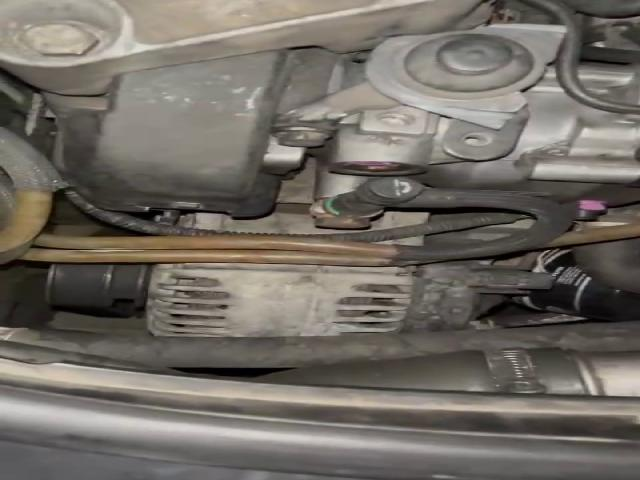alternator: (146, 263, 413, 337)
high_pressure_pump: (329, 82, 638, 218)
